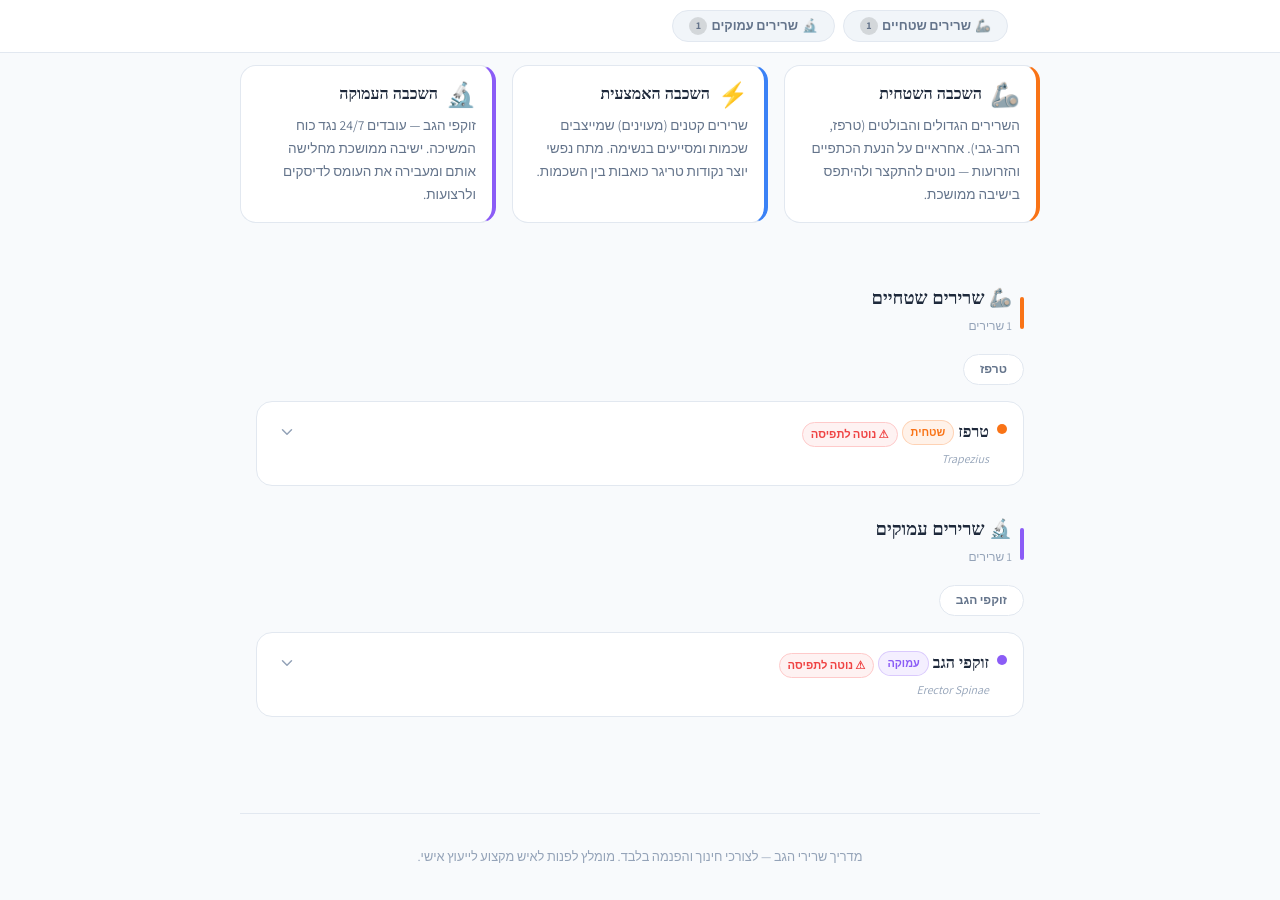
Test: MuscleCard — stretch section › primary stretch title is visible after expanding (erector spinae)
(page scrolled)
Click the heading "זוקפי הגב" at (961, 663), box [933, 653, 989, 674]
(page scrolled)
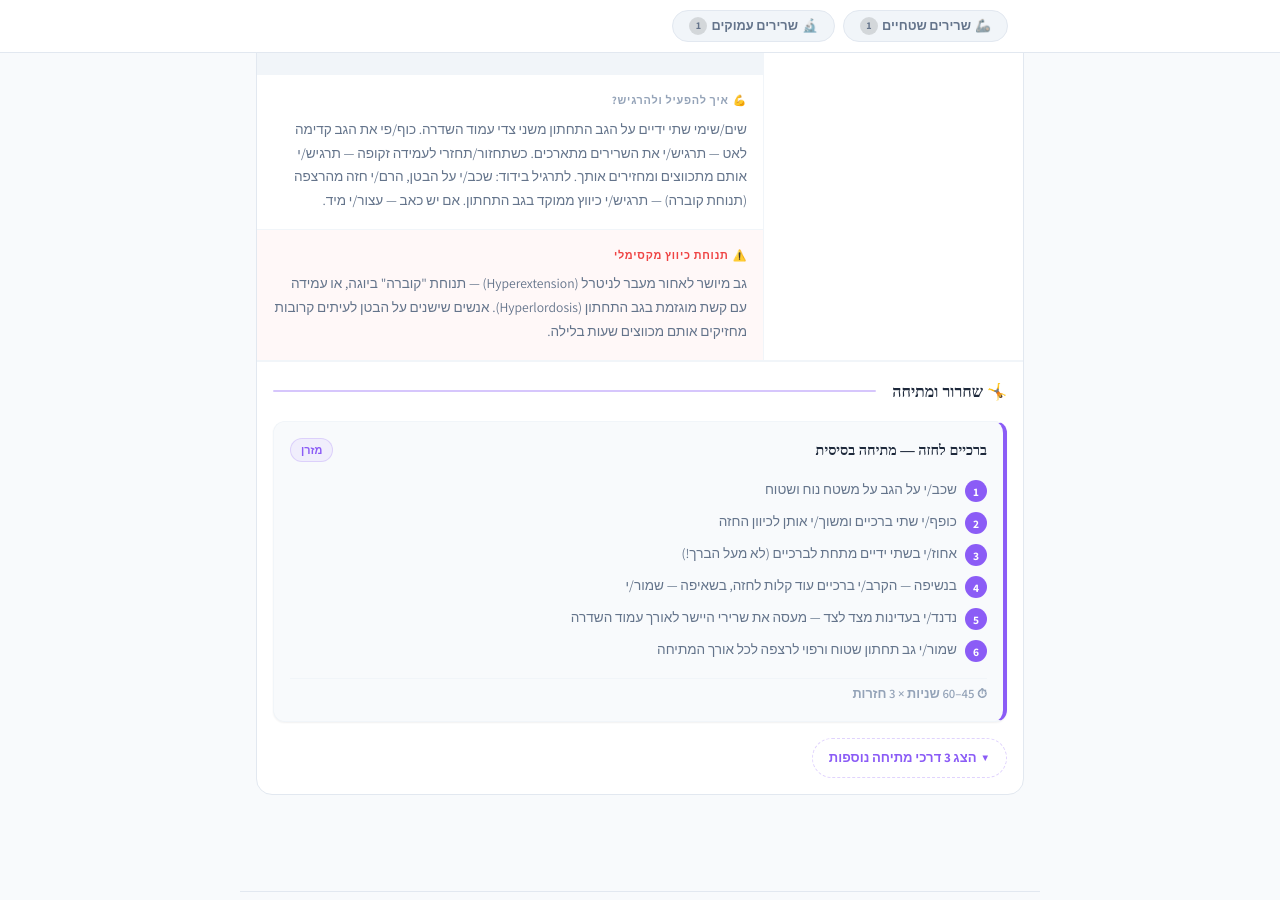
expect the heading "ברכיים לחזה — מתיחה בסיסית" is shown: met, box [816, 438, 987, 462]
